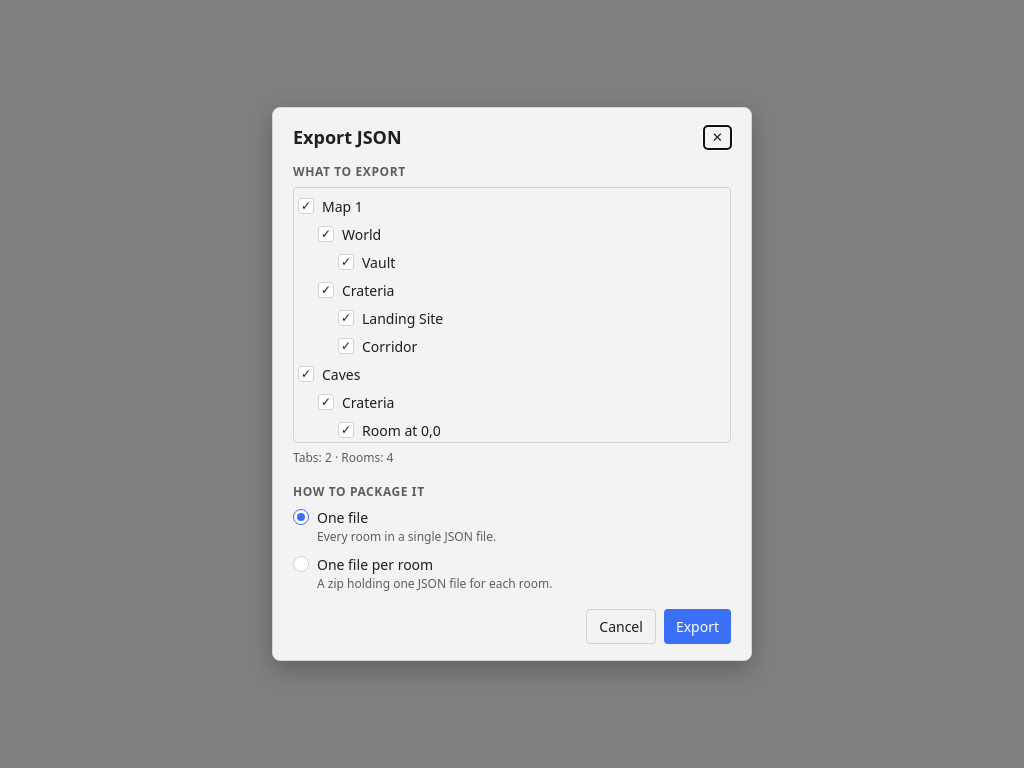
Test: ticking › counts what is about to be written
Click the checkbox labelled "✓" next to "Caves".
click(306, 374)  # box [298, 366, 314, 382]
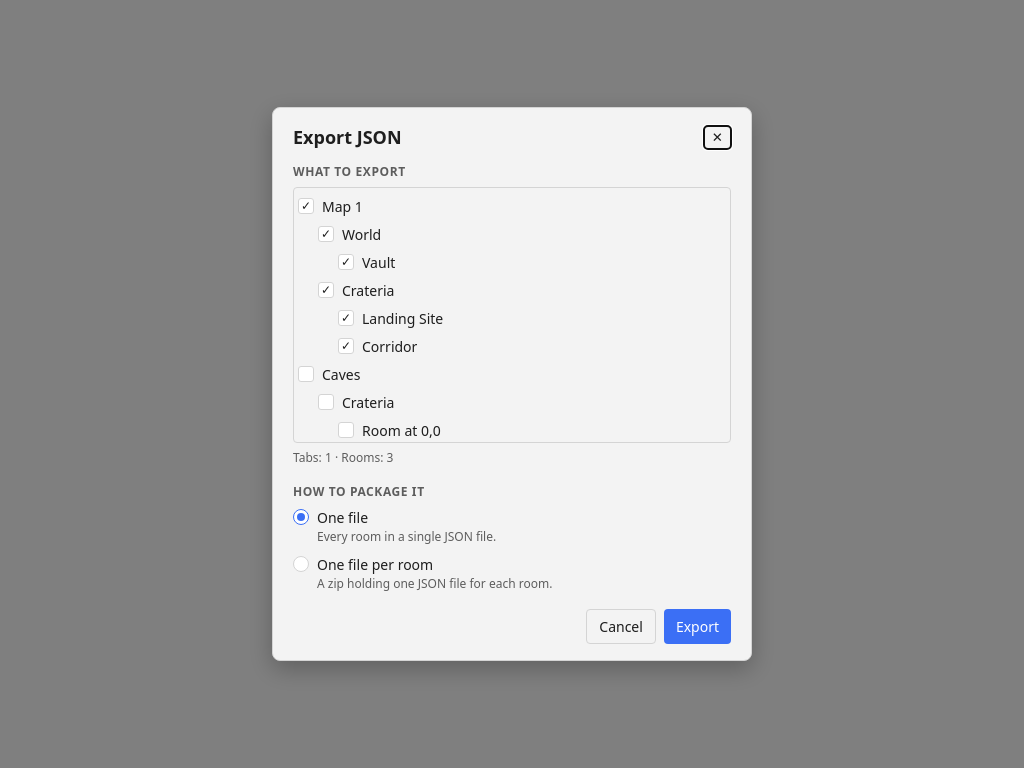
Check: the text "Tabs: 1" is shown, box [293, 449, 393, 466]
Check: the text "Rooms: 3" is shown, box [293, 449, 393, 466]
